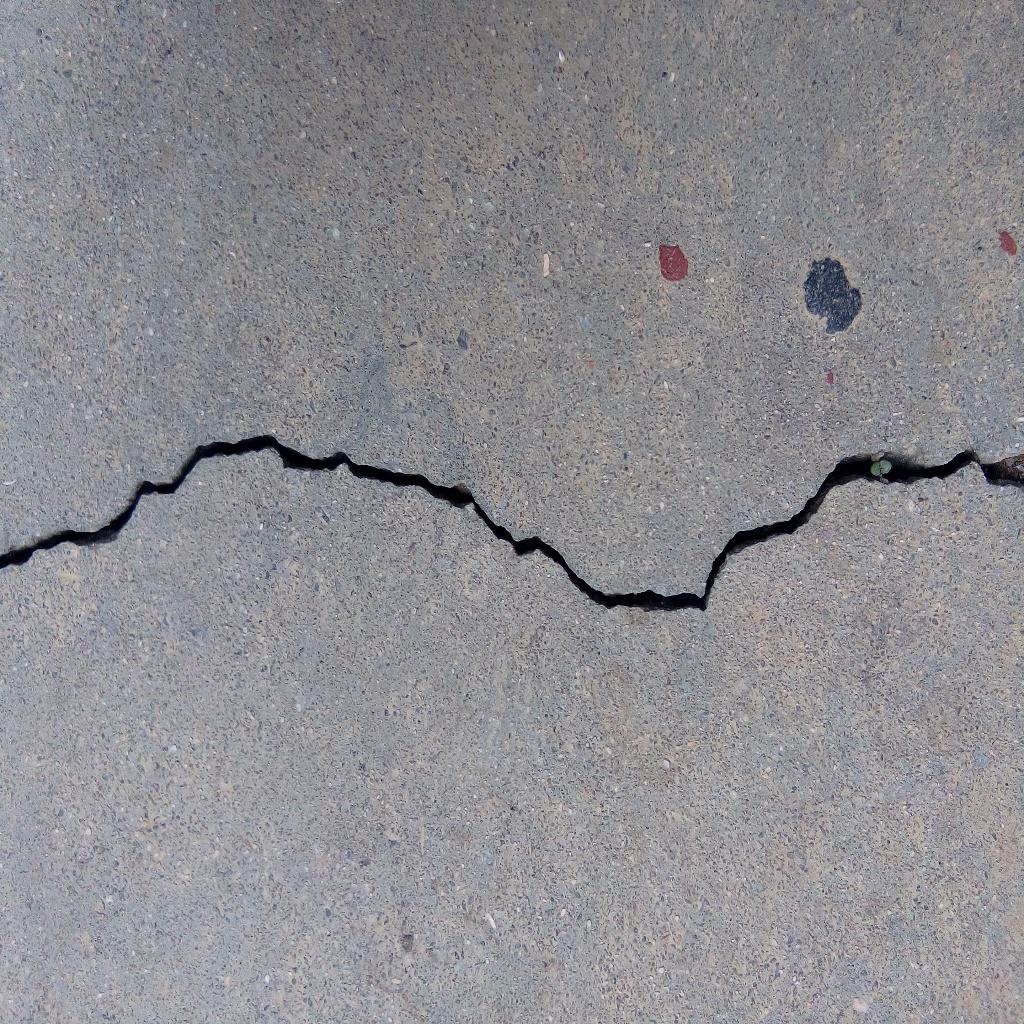Crack: (1, 430, 1024, 613)
